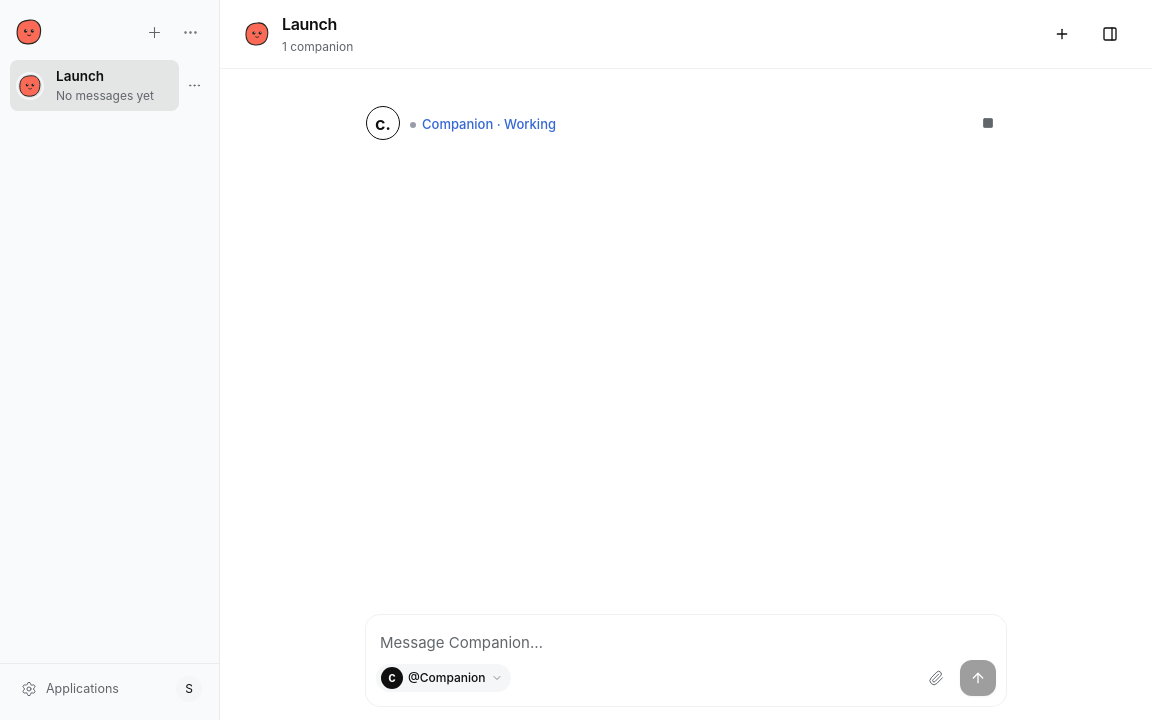
clear addressing and persisted activity › acknowledges a stop request without claiming the task has already stopped
Click the button named "Stop chat": [988, 123] box left=970, top=105, right=1006, bottom=141
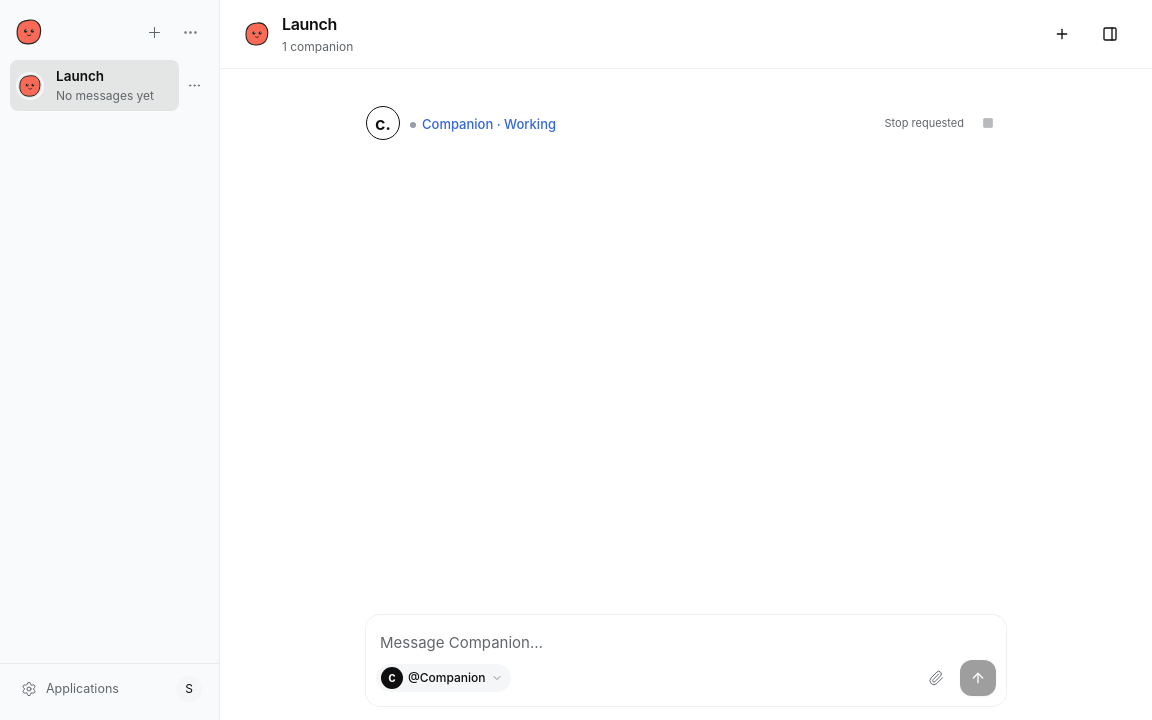
Expected: the text "Companion · Working" is shown, left=410, top=115, right=556, bottom=134
Expected: the text "Stop requested" is shown, left=884, top=115, right=964, bottom=131
Expected: the button named "Stop chat" is disabled, left=970, top=105, right=1006, bottom=141
